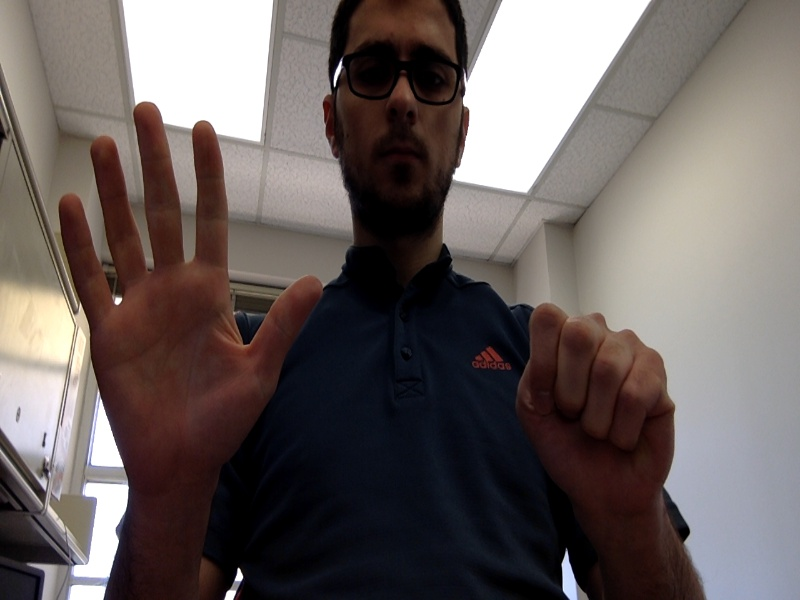0-hand: (514, 303, 676, 527)
5-hand: (60, 103, 323, 488)
